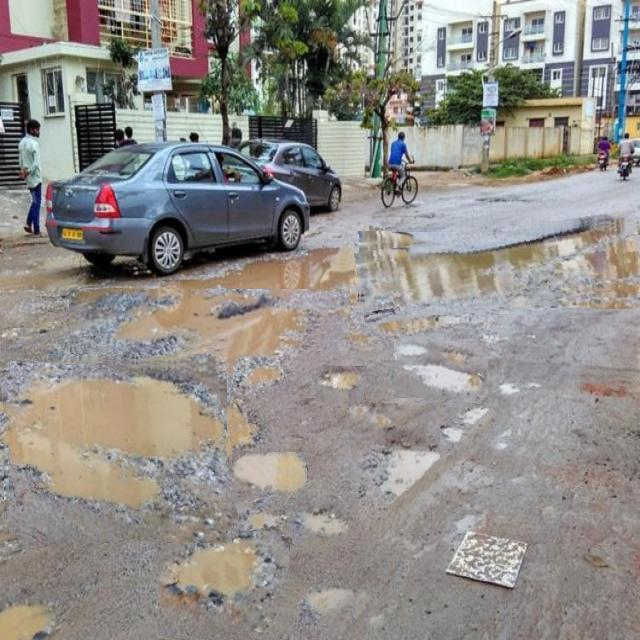Pothole: (4, 356, 233, 544), (356, 220, 640, 315), (69, 289, 350, 355), (158, 532, 295, 640), (346, 403, 440, 491), (393, 339, 488, 401), (228, 452, 307, 501), (288, 495, 356, 545), (0, 588, 55, 640), (317, 366, 367, 402)
